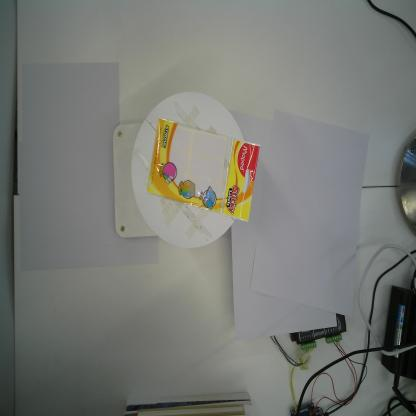Stationery: (145, 115, 261, 224)
